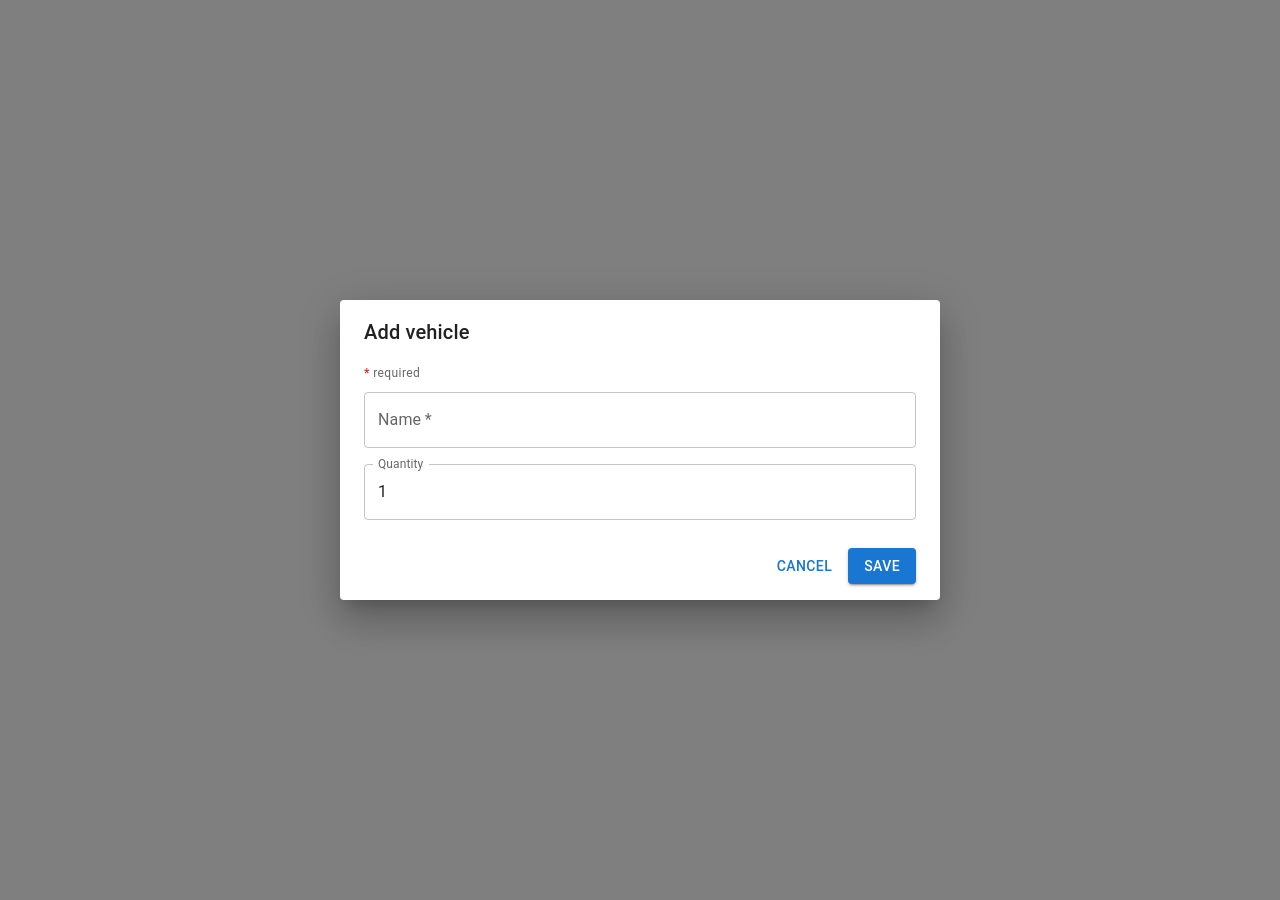
it: EntityFormDialog — dirty guard › arms useHistoryGuard on `open` and hardware Back is a close attempt (dirty → confirm)
This screenshot has width=1280, height=900.
Type "Truck 9" into the field labelled "Name *" at [640, 420], box [364,392,916,448]
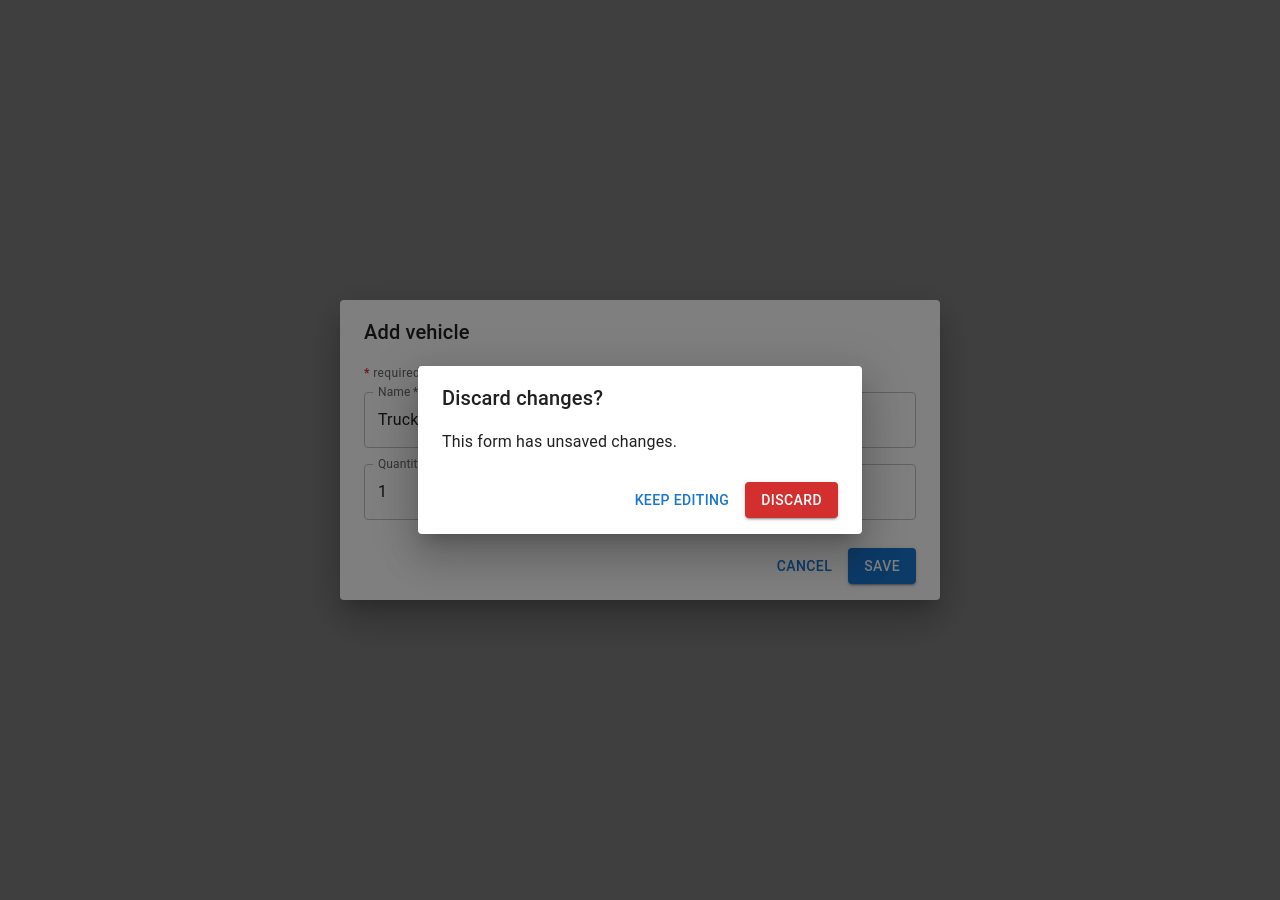
Expected: the heading "Discard changes?" is shown, [442,386,603,410]
